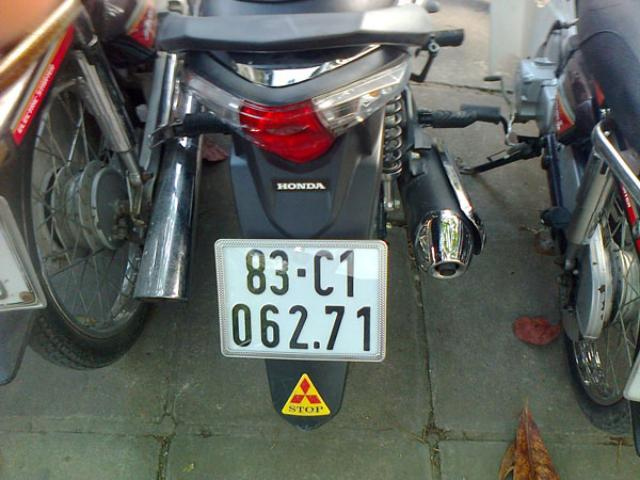plate: (214, 237, 386, 367)
